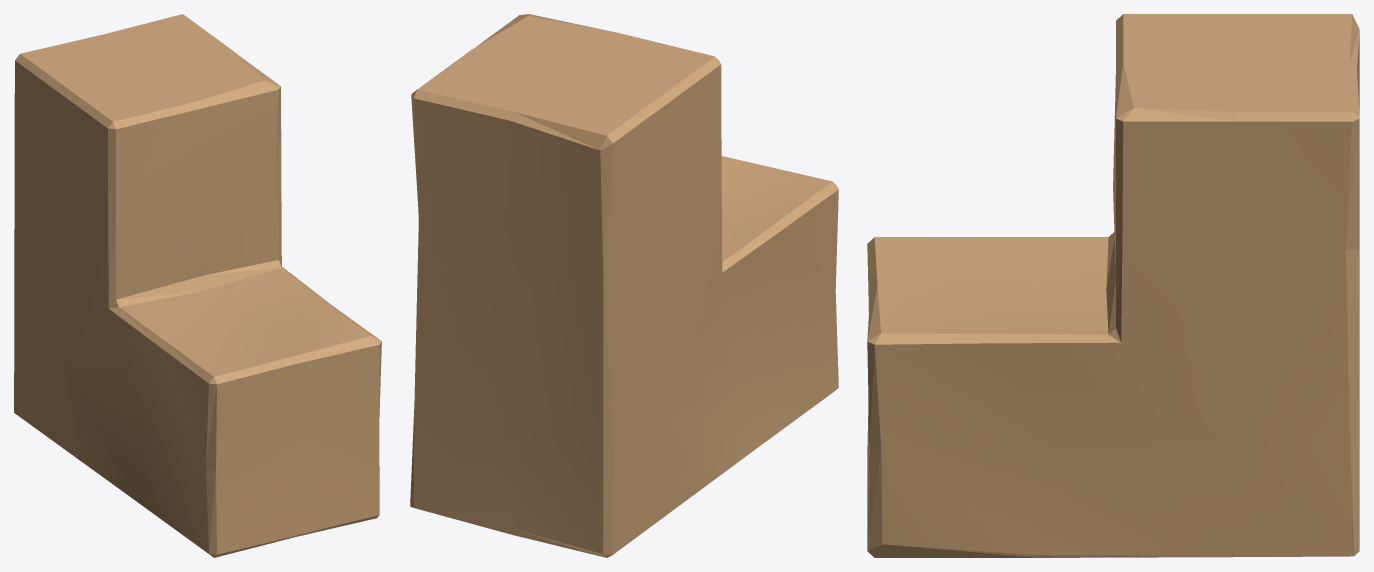
The picture shows the model from 3 angles, left to right: view 1: azimuth 30°, elevation 25°; view 2: azimuth 150°, elevation 25°; view 3: azimuth 270°, elevation 25°; orthographic projection. The views are drawn at different scales.
Visible parts, largest first — view 1: box_LShape; view 2: box_LShape; view 3: box_LShape.
Boxes of the visible parts, x1=… form: box_LShape: x1=14, y1=14, x2=381, y2=557; box_LShape: x1=410, y1=14, x2=838, y2=557; box_LShape: x1=867, y1=14, x2=1359, y2=557.
Size of the model in its own units: 10 by 20.02 by 20.
Materials: 1 (1 with a texture image).
